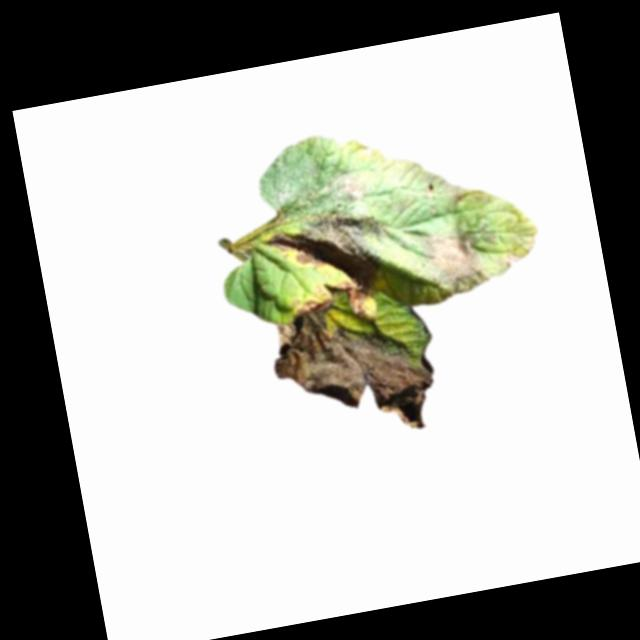Late_blight: (263, 277, 441, 453), (261, 166, 395, 302), (416, 227, 490, 298), (292, 284, 332, 315), (497, 248, 522, 274), (360, 144, 377, 161)
